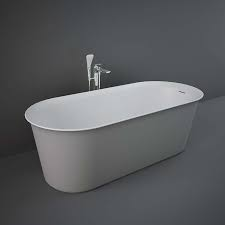bathub: (23, 78, 211, 202)
